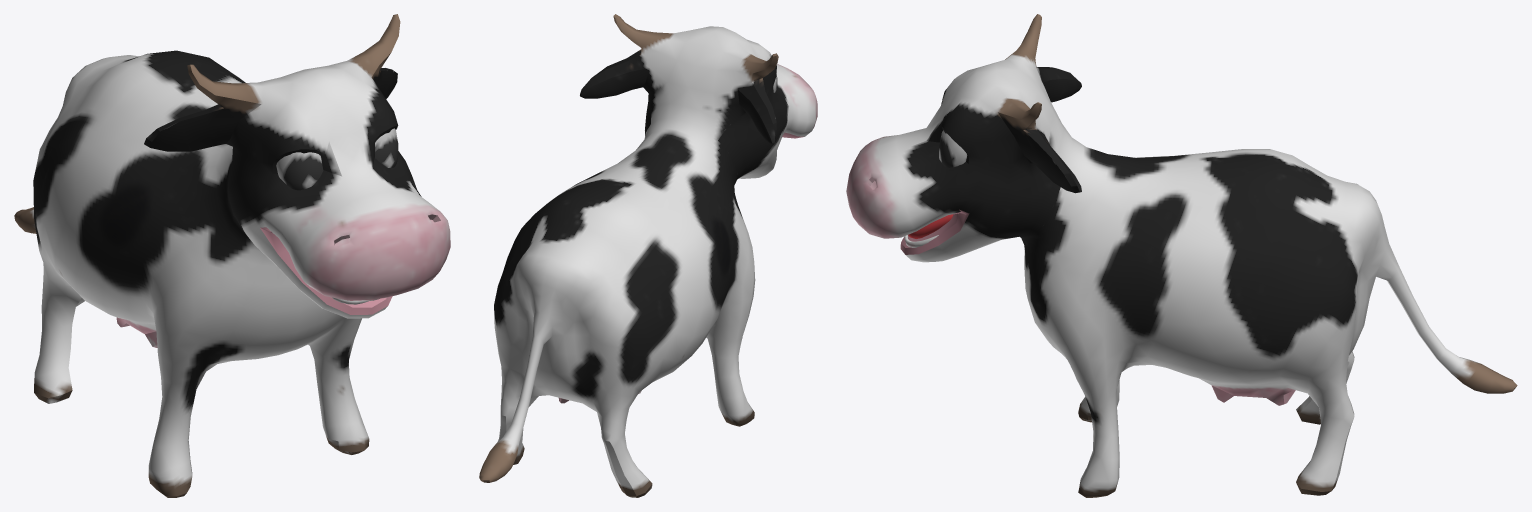
Rendered from cow.obj.
3 views of the same model, side by side, from view 1: azimuth 30°, elevation 25°; view 2: azimuth 150°, elevation 25°; view 3: azimuth 270°, elevation 25° (orthographic). The views are drawn at different scales.
Visible parts, largest first — view 1: Cow; view 2: Cow; view 3: Cow.
Boxes of the visible parts, x1,y1,x2,y2 form: Cow: (14,14,450,497); Cow: (479,14,817,497); Cow: (846,14,1517,497).
Bounding box in the file's own units: 3.55 × 6.16 × 9.39.
